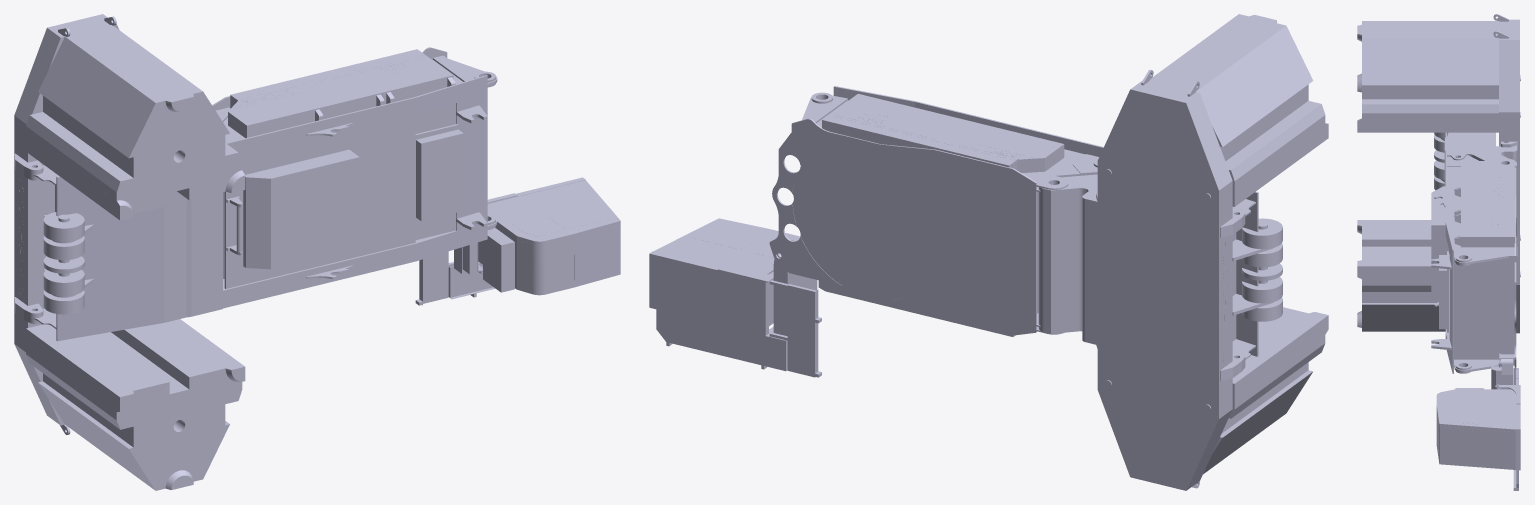
Rendered from scx3500_upper.obj.
The picture shows the model from 3 angles, left to right: view 1: azimuth 30°, elevation 25°; view 2: azimuth 150°, elevation 25°; view 3: azimuth 270°, elevation 25°; orthographic projection. The views are drawn at different scales.
Visible parts, largest first — view 1: SCX3500-3_CTWT_000_1-HSC_SCX3500-3_CTWT_MODEL (Meshed), SCX3500-3_FRAME_MAIN_000_1-HSC_SCX3500-3_FRAME_MAIN035 (Meshed), SCX3500-3_HOUSE_COVER_000_1-HSC_SCX3500-3_HOUSE_COVER007 (Meshed, SCX3500-3_CAB_000_1-HSC_SCX3500-3_CAB_MODEL (Meshed), SCX3500-3_HOUSE_L_000_1-HSC_SCX3500-3_HOUSE_L (Meshed); view 2: SCX3500-3_CTWT_000_1-HSC_SCX3500-3_CTWT_MODEL (Meshed), SCX3500-3_FRAME_MAIN_000_1-HSC_SCX3500-3_FRAME_MAIN035 (Meshed), SCX3500-3_CAB_000_1-HSC_SCX3500-3_CAB_MODEL (Meshed), SCX3500-3_HOUSE_L_000_1-HSC_SCX3500-3_HOUSE_L (Meshed), SCX3500-3_HOUSE_R_000_1-HSC_SCX3500-3_HOUSE_R (Meshed); view 3: SCX3500-3_CTWT_000_1-HSC_SCX3500-3_CTWT_MODEL (Meshed), SCX3500-3_FRAME_MAIN_000_1-HSC_SCX3500-3_FRAME_MAIN035 (Meshed), SCX3500-3_CAB_000_1-HSC_SCX3500-3_CAB_MODEL (Meshed), SCX3500-3_HOUSE_L_000_1-HSC_SCX3500-3_HOUSE_L (Meshed), SCX3500-3_HOUSE_COVER_000_1-HSC_SCX3500-3_HOUSE_COVER007 (Meshed.
Boxes of the visible parts, box(x1,y1,x2,y2) form: SCX3500-3_CTWT_000_1-HSC_SCX3500-3_CTWT_MODEL (Meshed): box(14, 14, 245, 490); SCX3500-3_FRAME_MAIN_000_1-HSC_SCX3500-3_FRAME_MAIN035 (Meshed): box(33, 47, 497, 341); SCX3500-3_HOUSE_COVER_000_1-HSC_SCX3500-3_HOUSE_COVER007 (Meshed: box(224, 115, 463, 288); SCX3500-3_CAB_000_1-HSC_SCX3500-3_CAB_MODEL (Meshed): box(415, 177, 620, 305); SCX3500-3_HOUSE_L_000_1-HSC_SCX3500-3_HOUSE_L (Meshed): box(228, 49, 455, 138); SCX3500-3_CTWT_000_1-HSC_SCX3500-3_CTWT_MODEL (Meshed): box(1096, 14, 1328, 490); SCX3500-3_FRAME_MAIN_000_1-HSC_SCX3500-3_FRAME_MAIN035 (Meshed): box(769, 86, 1282, 359); SCX3500-3_CAB_000_1-HSC_SCX3500-3_CAB_MODEL (Meshed): box(649, 218, 821, 377); SCX3500-3_HOUSE_L_000_1-HSC_SCX3500-3_HOUSE_L (Meshed): box(822, 94, 1064, 172); SCX3500-3_HOUSE_R_000_1-HSC_SCX3500-3_HOUSE_R (Meshed): box(818, 280, 1015, 336); SCX3500-3_CTWT_000_1-HSC_SCX3500-3_CTWT_MODEL (Meshed): box(1357, 14, 1520, 333); SCX3500-3_FRAME_MAIN_000_1-HSC_SCX3500-3_FRAME_MAIN035 (Meshed): box(1431, 132, 1516, 373); SCX3500-3_CAB_000_1-HSC_SCX3500-3_CAB_MODEL (Meshed): box(1436, 359, 1520, 490); SCX3500-3_HOUSE_L_000_1-HSC_SCX3500-3_HOUSE_L (Meshed): box(1454, 161, 1514, 247); SCX3500-3_HOUSE_COVER_000_1-HSC_SCX3500-3_HOUSE_COVER007 (Meshed: box(1431, 186, 1448, 332).
Bounding box in the file's own units: 10705 × 7120 × 3438.
